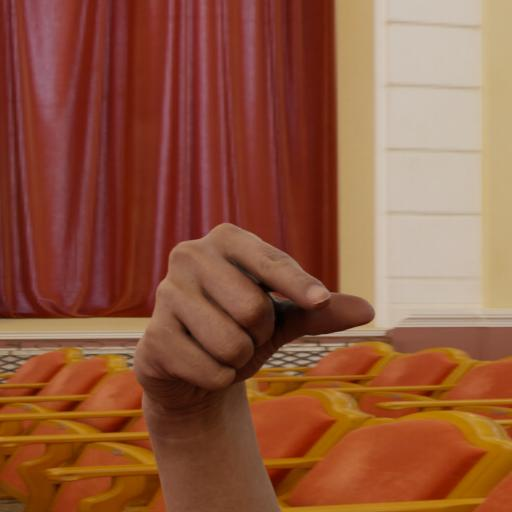G: (104, 206, 382, 442)
